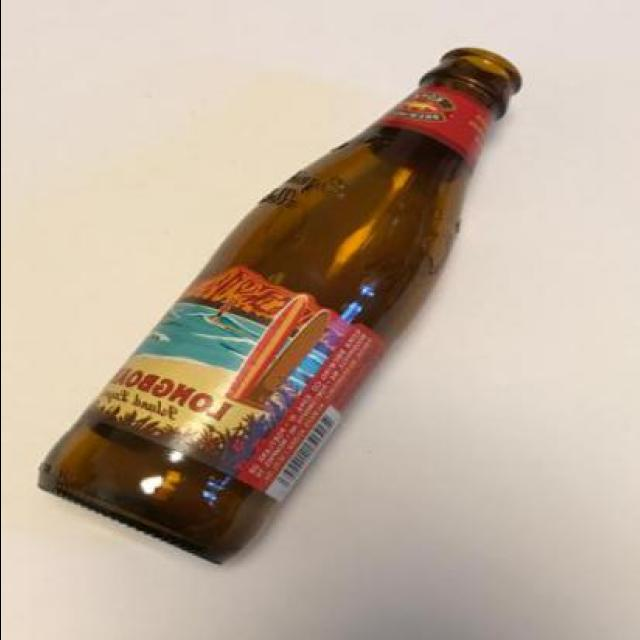kaca: (34, 45, 518, 564)
